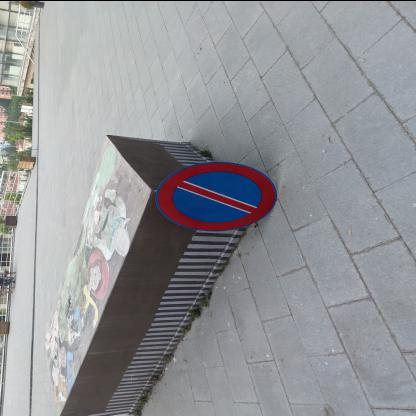No Waiting: (157, 162, 278, 232)
